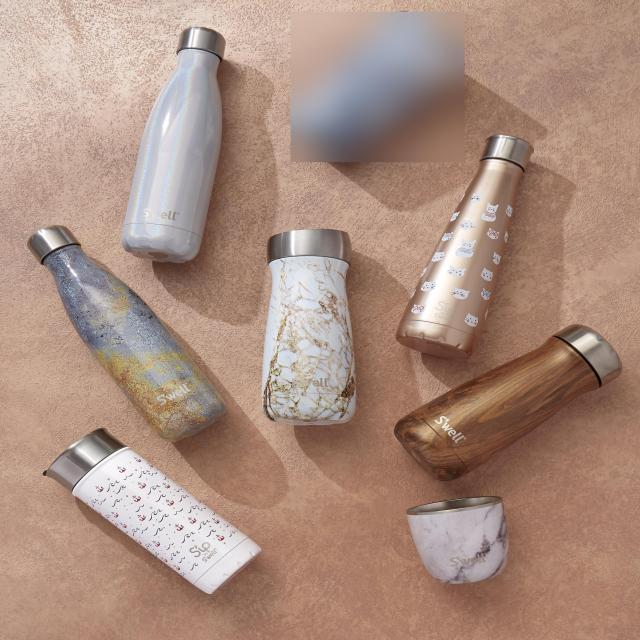gym bottle: (27, 225, 224, 440), (48, 427, 262, 596), (393, 323, 622, 480), (394, 134, 534, 357), (119, 26, 228, 260), (258, 227, 359, 425)
